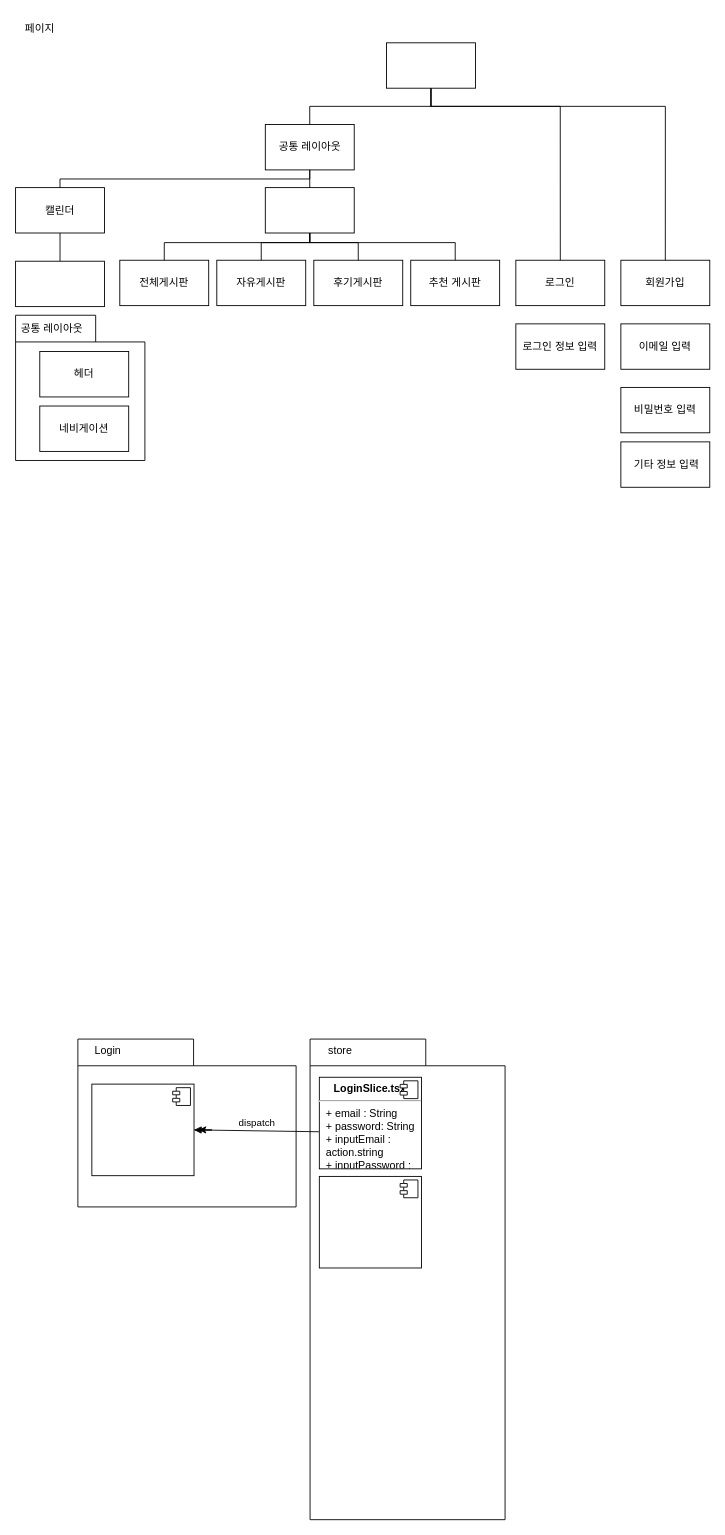
The diagram is 725 pixels wide and 1535 high, and some of its shapes have lost their labels. Here are the shapes that lost their labels. From the top down, the centre of each, then its label:
the point at 430,65: App
the point at 309,210: 커뮤니티
the point at 59,283: 공연 상세 정보
the point at 142,1129: Login.tsx + email : String + password: String + loginErrMsg : boolean
the point at 370,1222: AuthSlice.tsx + accessToken : String + storeAccessToken : action.string
